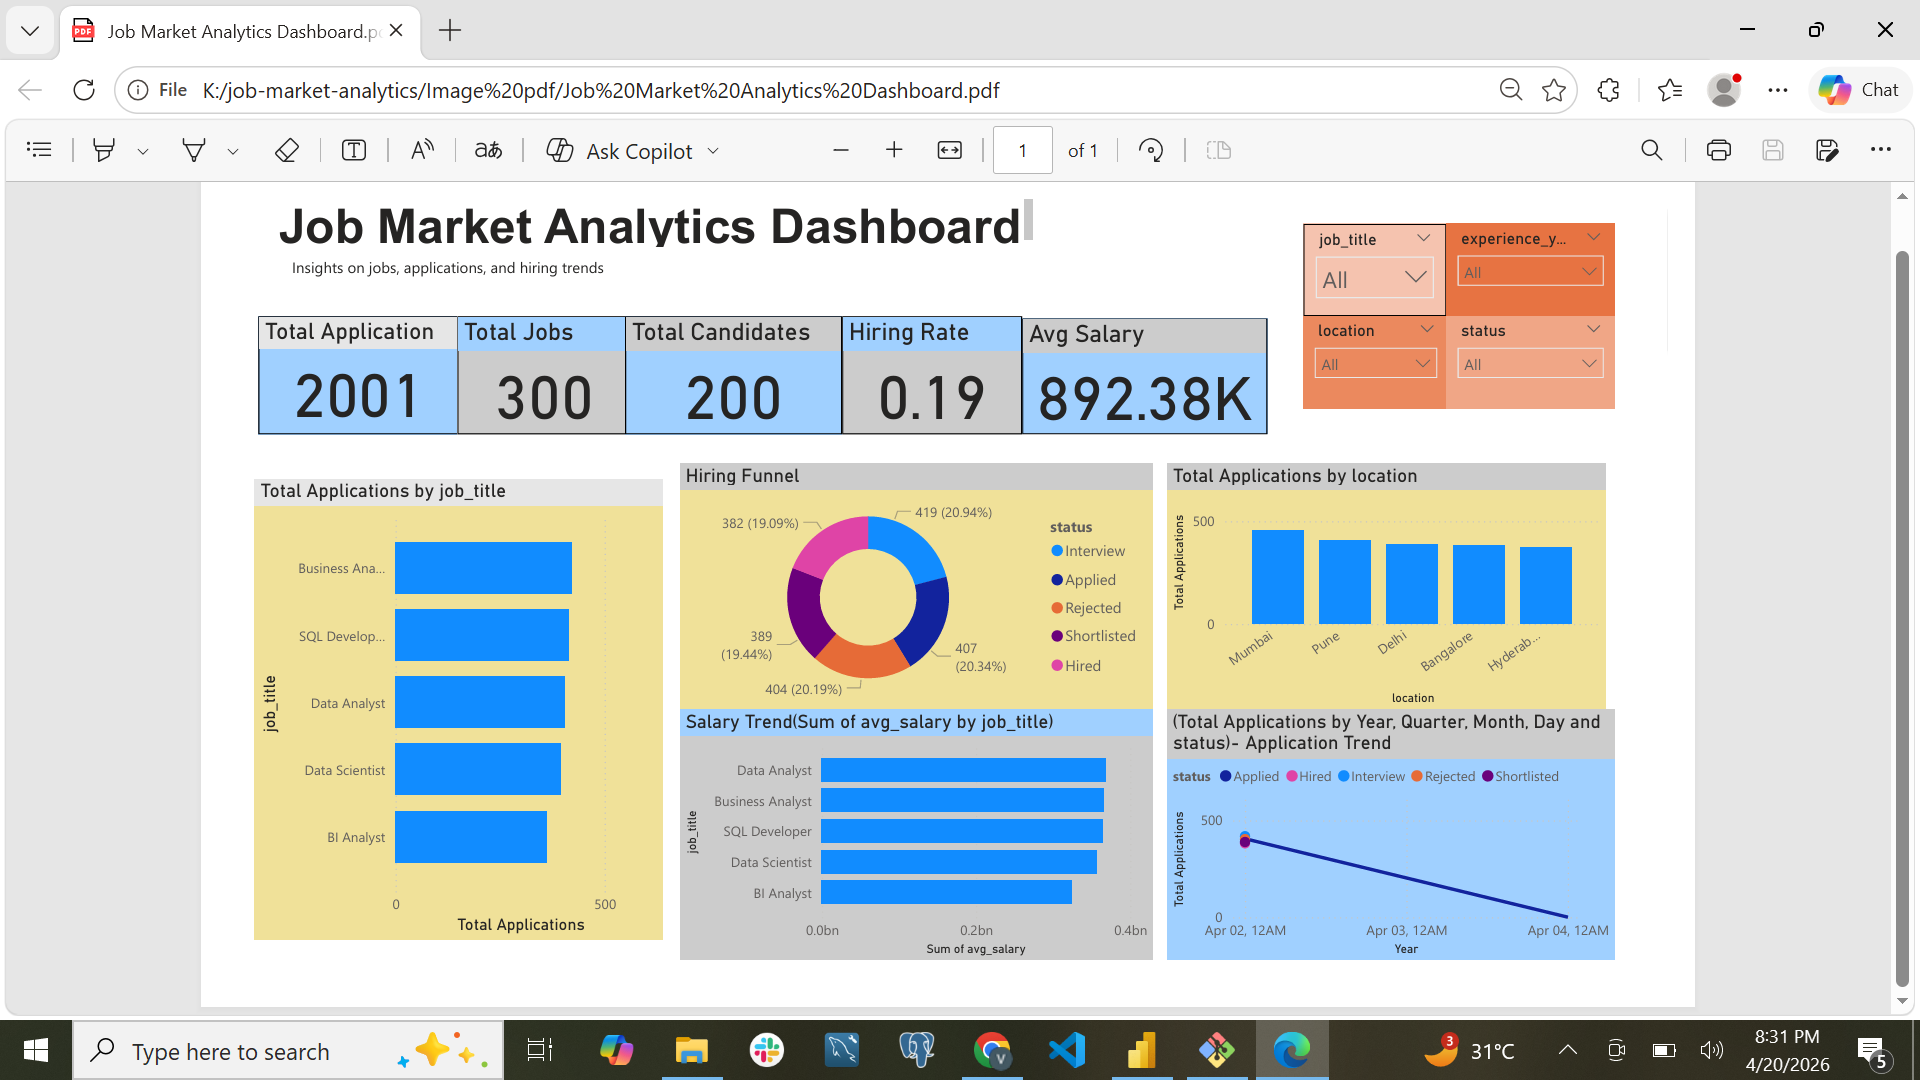

The dashboard page shown, as its layout file describes it:
{"tool":"powerbi","page":{"name":"Page 1","canvas":[1280,720],"ordinal":0},"visuals":[{"type":"card","title":"Total Application","fields":{"Values":["job_analytics.Total Applications"]},"box":[27,130.4,178.1,105],"z":0},{"type":"card","title":"Total Jobs","fields":{"Values":["job_analytics.Total Jobs"]},"box":[203.6,130.4,154.3,105],"z":1},{"type":"card","title":"Total Candidates","fields":{"Values":["job_analytics.Total Candidates"]},"box":[353.1,130.4,192.5,105],"z":2},{"type":"card","title":"Hiring Rate","fields":{"Values":["job_analytics.Hiring Rate"]},"box":[545.6,130.4,160.7,105],"z":3},{"type":"card","title":"Avg Salary","fields":{"Values":["job_analytics.Average Salary"]},"box":[706.2,132,217.9,103.4],"z":4},{"type":"barChart","fields":{"Category":["job_analytics.job_title"],"Y":["job_analytics.Total Applications"]},"box":[23.9,275.2,362.7,408.8],"z":5},{"type":"donutChart","title":"Hiring Funnel","fields":{"Category":["job_analytics.status"],"Y":["job_analytics.Applications by Status"]},"box":[402.4,260.9,419.9,219.5],"z":6},{"type":"clusteredColumnChart","fields":{"Category":["job_analytics.location"],"Y":["job_analytics.Total Applications"]},"box":[835.1,260.9,389.7,219.5],"z":7},{"type":"clusteredBarChart","title":"Salary Trend(Sum of avg_salary by job_title)","fields":{"Category":["job_analytics.job_title"],"Y":["Sum(job_analytics.avg_salary)"]},"box":[402.4,480.4,419.9,222.7],"z":8},{"type":"lineChart","title":"(Total Applications by Year, Quarter, Month, Day and status)- Application Trend","fields":{"Category":["job_analytics.application_date.Variation.Date Hierarchy.Year","job_analytics.application_date.Variation.Date Hierarchy.Quarter","job_analytics.application_date.Variation.Date Hierarchy.Month","job_analytics.application_date.Variation.Date Hierarchy.Day"],"Y":["job_analytics.Total Applications"],"Series":["job_analytics.status"]},"box":[835.1,480.4,397.7,222.7],"z":9},{"type":"slicer","fields":{"Values":["job_analytics.job_title"]},"box":[956,47.7,127.2,82.7],"z":10},{"type":"slicer","fields":{"Values":["job_analytics.location"]},"box":[956,130.4,128.8,81.1],"z":11},{"type":"slicer","fields":{"Values":["job_analytics.status"]},"box":[1083.2,130.4,149.5,81.1],"z":12},{"type":"slicer","fields":{"Values":["job_analytics.experience_years"]},"box":[1083.2,47.7,149.5,82.7],"z":13},{"type":"textbox","box":[39.8,20.7,680.8,52.5],"z":14},{"type":"textbox","box":[52.5,73.2,300.6,27],"z":15}]}

Visuals, with their boxes on the page's 1280x720 design canvas (x1, y1, x2, y2). These are canvas units, not pixel positions in the 1920x1080 screenshot, which may show the page scaled, cropped or inside an application window:
"Total Application" card: bbox(27, 130, 205, 235)
"Total Jobs" card: bbox(204, 130, 358, 235)
"Total Candidates" card: bbox(353, 130, 546, 235)
"Hiring Rate" card: bbox(546, 130, 706, 235)
"Avg Salary" card: bbox(706, 132, 924, 235)
barChart - job_analytics.job_title x job_analytics.Total Applications: bbox(24, 275, 387, 684)
"Hiring Funnel" donutChart: bbox(402, 261, 822, 480)
clusteredColumnChart - job_analytics.location x job_analytics.Total Applications: bbox(835, 261, 1225, 480)
"Salary Trend(Sum of avg_salary by job_title)" clusteredBarChart: bbox(402, 480, 822, 703)
"(Total Applications by Year, Quarter, Month, Day and status)- Application Trend" lineChart: bbox(835, 480, 1233, 703)
slicer - job_analytics.job_title: bbox(956, 48, 1083, 130)
slicer - job_analytics.location: bbox(956, 130, 1085, 212)
slicer - job_analytics.status: bbox(1083, 130, 1233, 212)
slicer - job_analytics.experience_years: bbox(1083, 48, 1233, 130)
textbox: bbox(40, 21, 721, 73)
textbox: bbox(52, 73, 353, 100)
